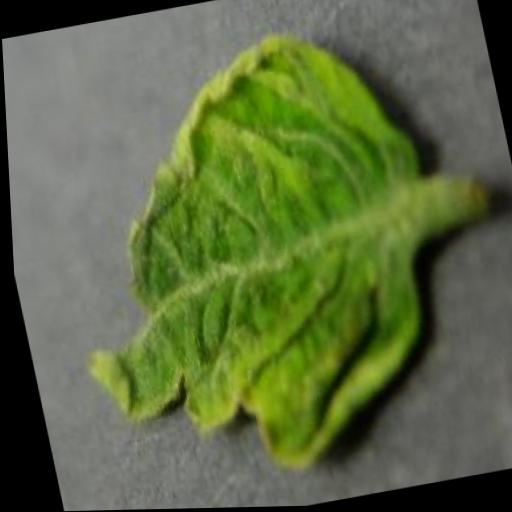Yellow Leaf Curl Virus: (27, 12, 480, 506)
